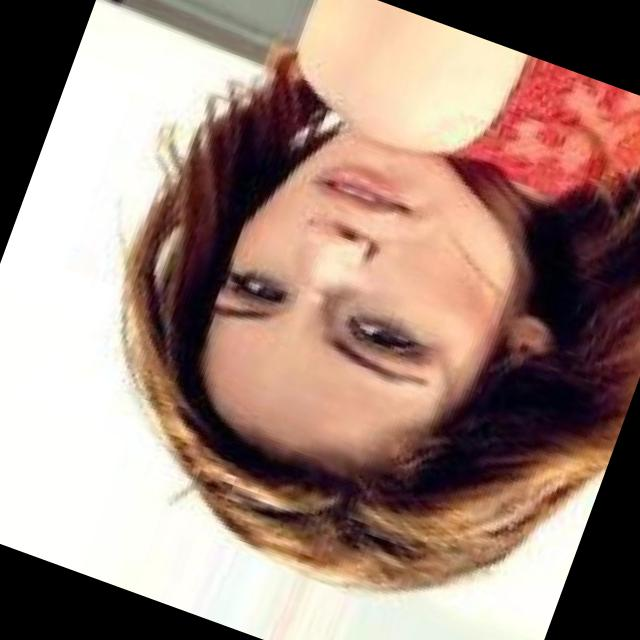bareface: (145, 104, 639, 629)
